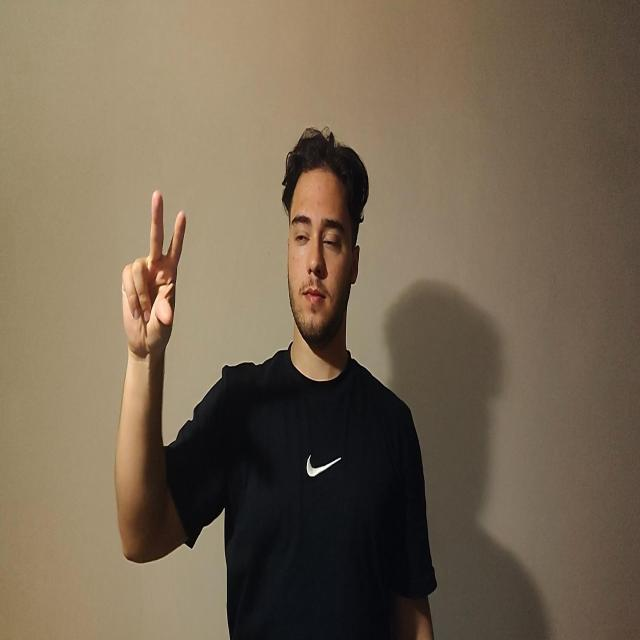no: (121, 189, 186, 359)
